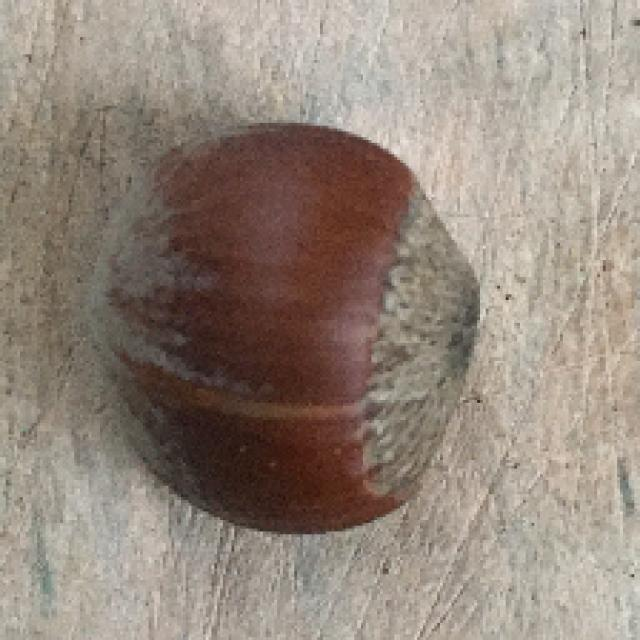damagedHazelnut: (88, 115, 476, 544)
